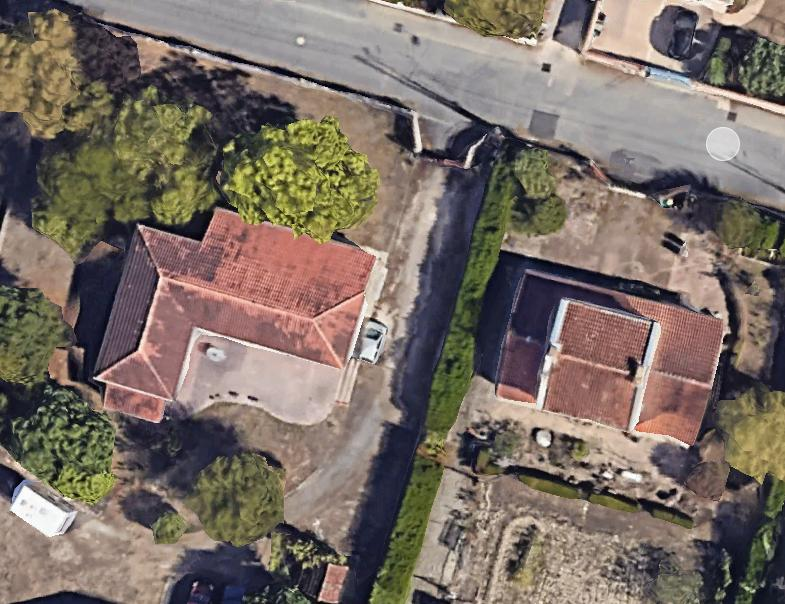maison: (85, 188, 379, 467), (490, 268, 728, 447)
